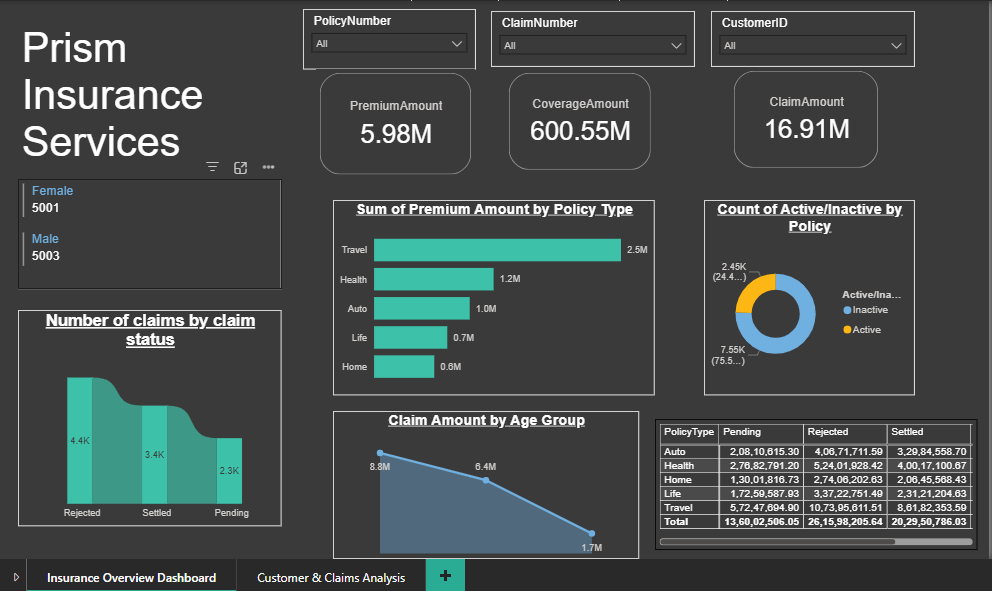

What the dashboard file says about the page in this screenshot:
{"tool":"powerbi","page":{"name":"Insurance Overview Dashboard","canvas":[1280,720],"ordinal":0},"visuals":[{"type":"slicer","fields":{"Values":["InsuranceDataNew.PolicyNumber"]},"box":[394.7,10.1,222.7,78.1],"z":0},{"type":"slicer","fields":{"Values":["InsuranceDataNew.ClaimNumber"]},"box":[637.6,13,263.1,72.3],"z":1000},{"type":"slicer","fields":{"Values":["InsuranceDataNew.CustomerID"]},"box":[921,13,263.1,72.3],"z":2000},{"type":"textbox","box":[27.5,24.6,326.7,248.7],"z":3000},{"type":"cardVisual","fields":{"Data":["Sum(InsuranceDataNew.PremiumAmount)"]},"box":[412,88.2,205.3,141.7],"z":4000},{"type":"cardVisual","fields":{"Data":["Sum(InsuranceDataNew.CoverageAmount)"]},"box":[654.9,88.2,193.7,135.9],"z":5000},{"type":"cardVisual","fields":{"Data":["Sum(InsuranceDataNew.ClaimAmount)"]},"box":[945.5,85.3,196.6,135.9],"z":6000},{"type":"ribbonChart","title":"Number of claims by claim status","fields":{"Category":["InsuranceDataNew.ClaimStatus"],"Y":["CountNonNull(InsuranceDataNew.ClaimStatus)"]},"box":[27.5,399,339.8,279],"z":7000},{"type":"clusteredBarChart","title":"Sum of Premium Amount by Policy Type","fields":{"Category":["InsuranceDataNew.PolicyType"],"Y":["Sum(InsuranceDataNew.PremiumAmount)"]},"box":[433.7,257.3,414.9,251.6],"z":8000},{"type":"lineChart","title":"Claim Amount by Age Group","fields":{"Category":["InsuranceDataNew.Age Group"],"Y":["Sum(InsuranceDataNew.ClaimAmount)"]},"box":[433.7,529.2,394.7,190.8],"z":9000},{"type":"donutChart","title":"Count of Active/Inactive by Policy","fields":{"Category":["InsuranceDataNew.Active/Inactive"],"Y":["CountNonNull(InsuranceDataNew.Active/Inactive)"]},"box":[912.3,257.3,271.8,251.6],"z":10000},{"type":"pivotTable","fields":{"Rows":["InsuranceDataNew.PolicyType"],"Columns":["InsuranceDataNew.ClaimStatus"],"Values":["Sum(InsuranceDataNew.CoverageAmount)"]},"box":[848.7,539.3,416.4,169.2],"z":11000},{"type":"multiRowCard","fields":{"Values":["InsuranceDataNew.Gender","CountNonNull(InsuranceDataNew.Gender)"]},"box":[27.5,229.9,339.8,141.7],"z":12000}]}

Visuals, with their boxes on the page's 1280x720 design canvas (x1, y1, x2, y2). These are canvas units, not pixel positions in the 992x591 screenshot, which may show the page scaled, cropped or inside an application window:
slicer - InsuranceDataNew.PolicyNumber: 395,10,617,88
slicer - InsuranceDataNew.ClaimNumber: 638,13,901,85
slicer - InsuranceDataNew.CustomerID: 921,13,1184,85
textbox: 28,25,354,273
cardVisual - Sum(InsuranceDataNew.PremiumAmount): 412,88,617,230
cardVisual - Sum(InsuranceDataNew.CoverageAmount): 655,88,849,224
cardVisual - Sum(InsuranceDataNew.ClaimAmount): 946,85,1142,221
"Number of claims by claim status" ribbonChart: 28,399,367,678
"Sum of Premium Amount by Policy Type" clusteredBarChart: 434,257,849,509
"Claim Amount by Age Group" lineChart: 434,529,828,720
"Count of Active/Inactive by Policy" donutChart: 912,257,1184,509
pivotTable - InsuranceDataNew.PolicyType x InsuranceDataNew.ClaimStatus: 849,539,1265,708
multiRowCard - InsuranceDataNew.Gender x CountNonNull(InsuranceDataNew.Gender): 28,230,367,372
